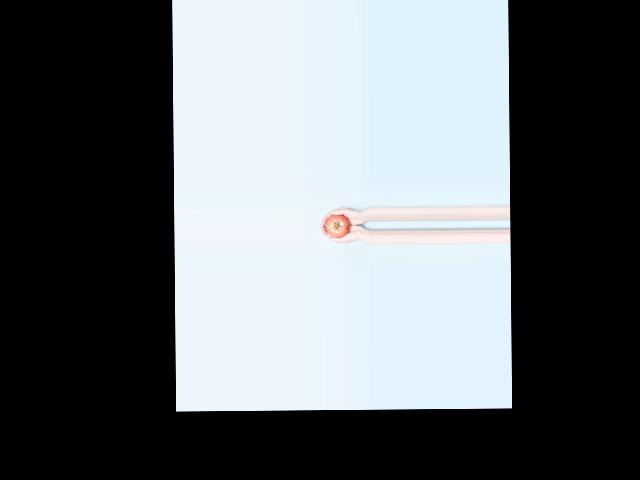tomato: (326, 213, 349, 237)
